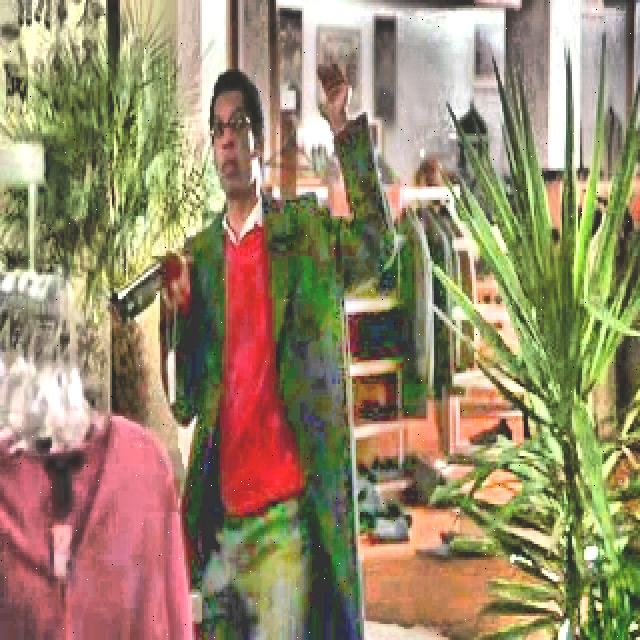L: (111, 58, 396, 639)
